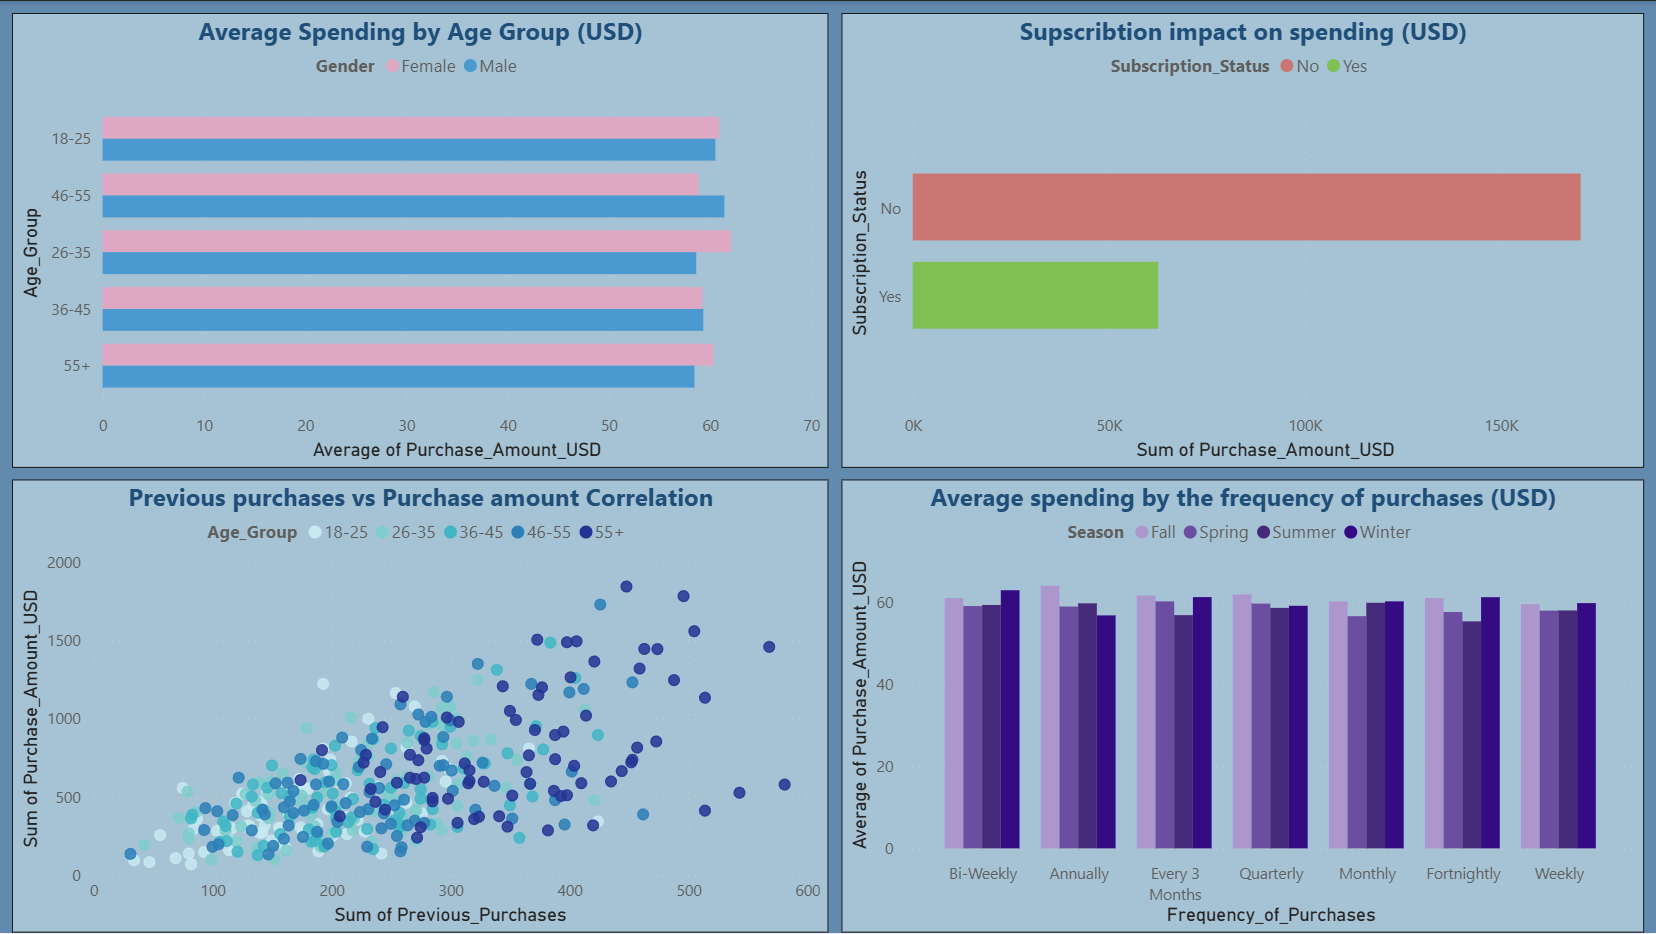

This screenshot's page, from the dashboard's own definition file:
{"tool":"powerbi","page":{"name":"Page 2","canvas":[1280,720],"ordinal":1},"visuals":[{"type":"clusteredBarChart","title":"Average Spending by Age Group (USD)","fields":{"Category":["Sheet1.Item_Purchased"],"Y":["CountNonNull(Sheet1.Item_Purchased)"]},"box":[9.3,9.3,630.3,351.1],"z":0},{"type":"scatterChart","title":"Previous purchases vs Purchase amount Correlation","fields":{"X":["Sum(Sheet1.Previous_Purchases)"],"Category":["Sheet1.Purchase_Amount_USD"],"Y":["Sum(Sheet1.Purchase_Amount_USD)"],"Series":["Sheet1.Age_Group"]},"box":[9.3,369.6,630.3,349.9],"z":1000},{"type":"barChart","title":"Supscribtion impact on spending (USD)","fields":{"Category":["Sheet1.Subscription_Status"],"Y":["Sum(Sheet1.Purchase_Amount_USD)"],"Series":["Sheet1.Subscription_Status"]},"box":[650,9.3,619.9,351.1],"z":2000},{"type":"clusteredColumnChart","title":"Average spending by the frequency of purchases (USD)","fields":{"Category":["Sheet1.Frequency_of_Purchases"],"Y":["Avg(Sheet1.Purchase_Amount_USD)"],"Series":["Sheet1.Season"]},"box":[650,369.6,619.9,349.9],"z":3000}]}

Visuals, with their boxes in screenshot pixels (x1, y1, x2, y2), scaled from the page's 1280x720 canvas onto the 1656x934 screenshot:
"Average Spending by Age Group (USD)" clusteredBarChart: locate(12, 12, 827, 468)
"Previous purchases vs Purchase amount Correlation" scatterChart: locate(12, 479, 827, 933)
"Supscribtion impact on spending (USD)" barChart: locate(841, 12, 1643, 468)
"Average spending by the frequency of purchases (USD)" clusteredColumnChart: locate(841, 479, 1643, 933)
